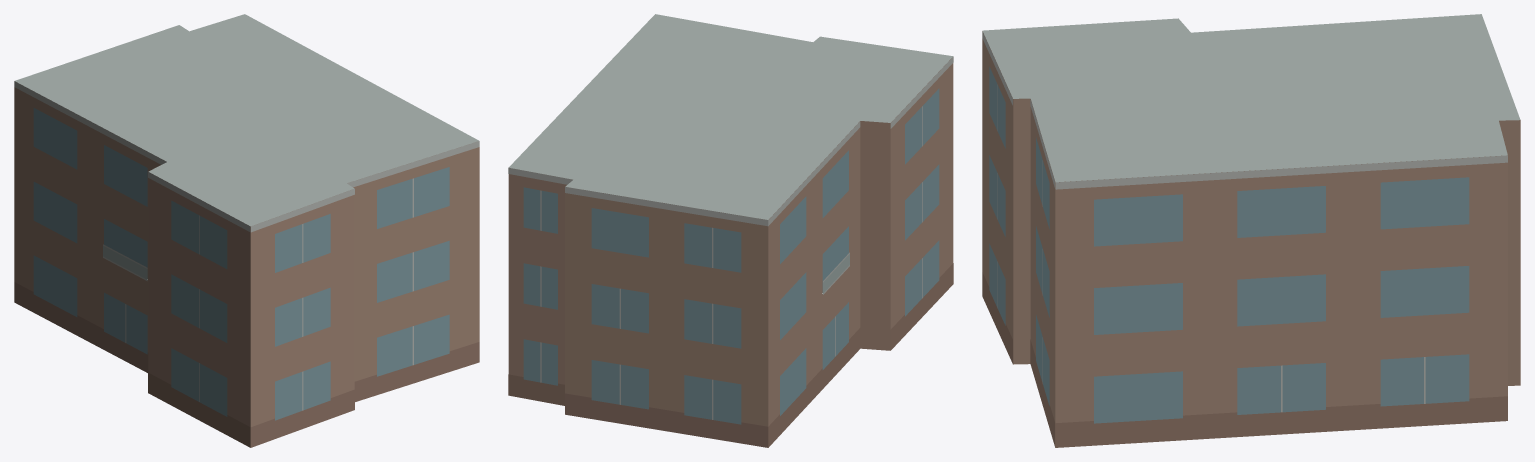
File: survey-upis-32877469.glb
The picture shows the model from 3 angles, left to right: view 1: azimuth 30°, elevation 25°; view 2: azimuth 150°, elevation 25°; view 3: azimuth 270°, elevation 25°; orthographic projection. The views are drawn at different scales.
Visible parts, largest first — view 1: survey-upis-32877469.tmp; view 2: survey-upis-32877469.tmp; view 3: survey-upis-32877469.tmp.
Boxes of the visible parts, left/top/right/bottom form: survey-upis-32877469.tmp: left=14, top=14, right=479, bottom=447; survey-upis-32877469.tmp: left=508, top=14, right=953, bottom=447; survey-upis-32877469.tmp: left=982, top=14, right=1520, bottom=447.
Size of the model in its own units: 12.11 by 8.9 by 16.36.
